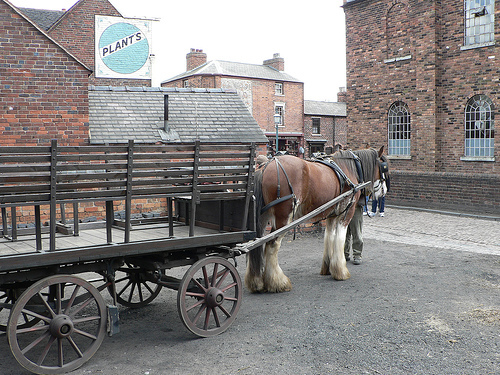horse: (241, 142, 390, 295)
